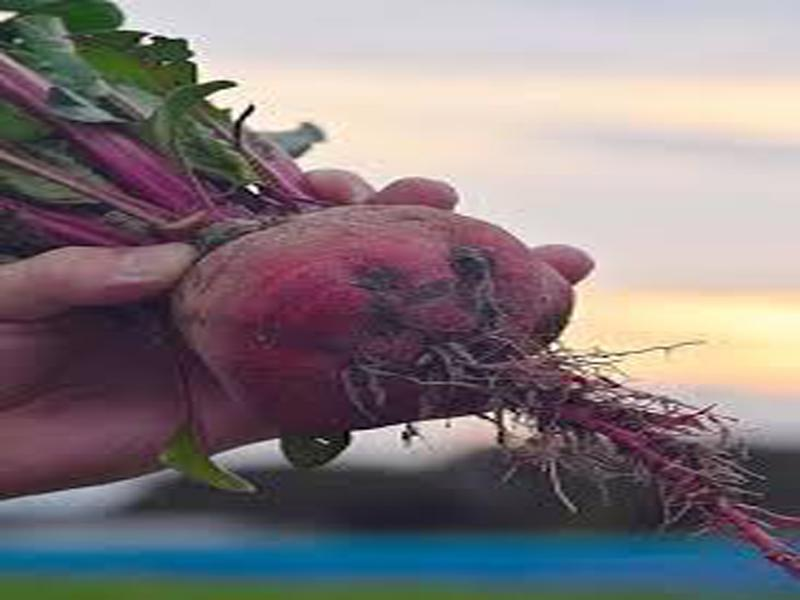Beet: (4, 2, 800, 572)
